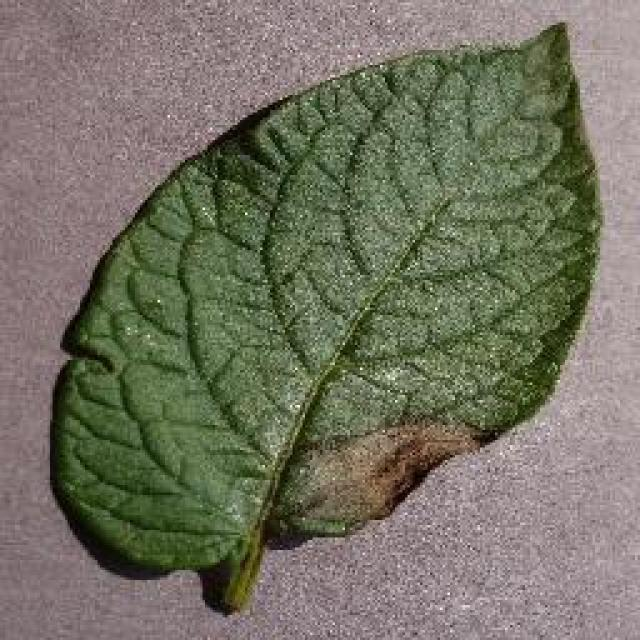late_blight: (42, 17, 608, 615)
